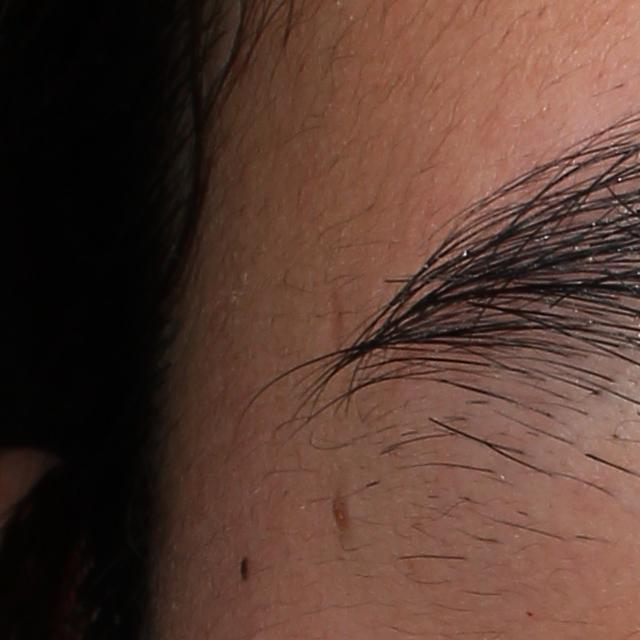nevus: (327, 495, 350, 535), (235, 555, 252, 585)
